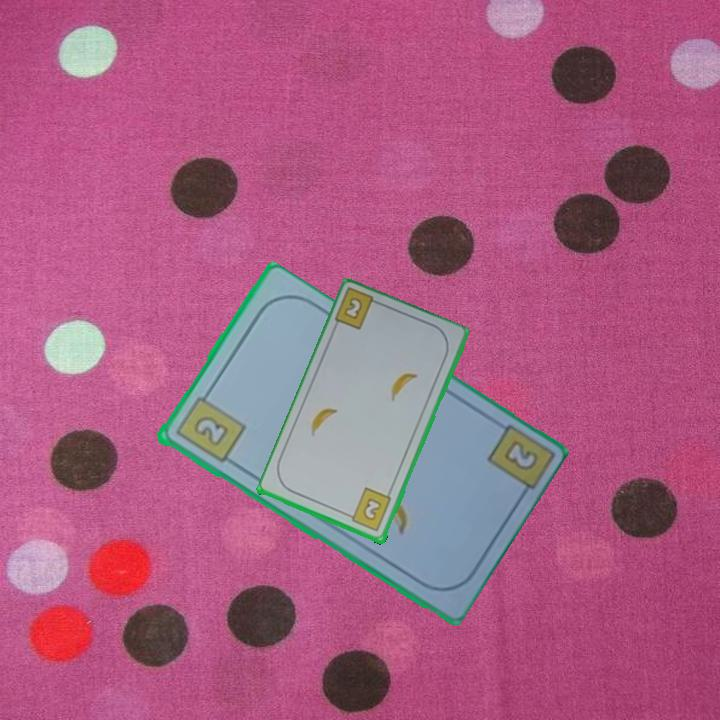2b: (171, 386, 247, 466), (343, 485, 395, 535), (499, 437, 541, 474), (340, 294, 366, 323)
